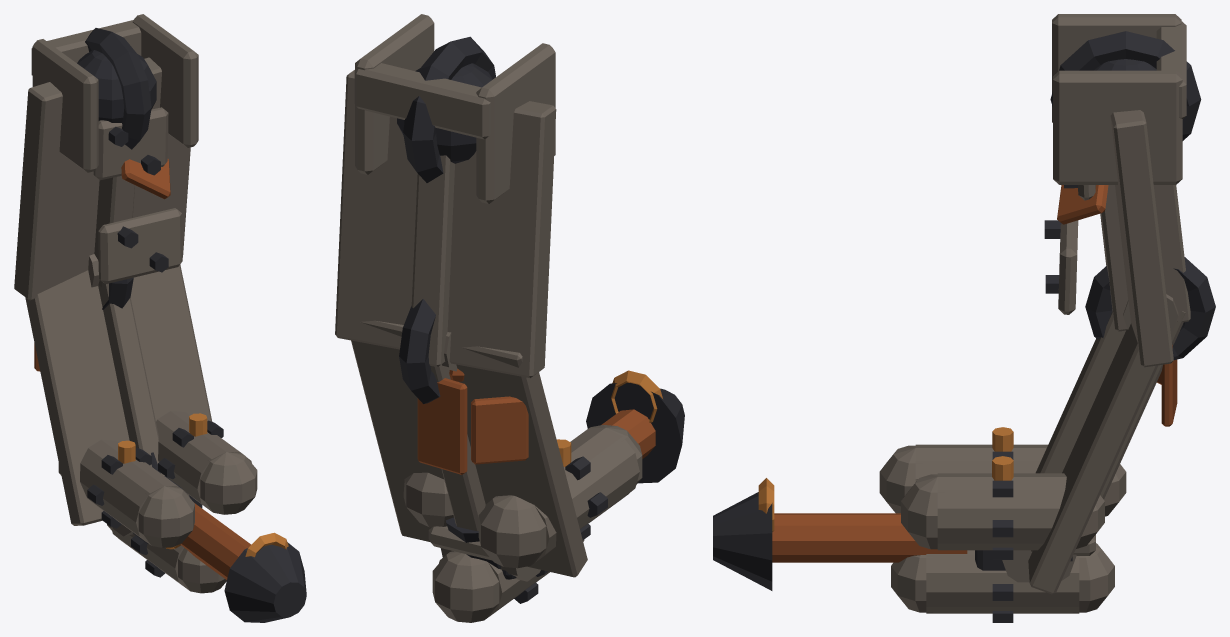
Rendered from ar_pulse.glb.
3 renders of one model, left to right at view 1: azimuth 30°, elevation 25°; view 2: azimuth 150°, elevation 25°; view 3: azimuth 270°, elevation 25°, orthographic. The views are drawn at different scales.
Visible parts, largest first — view 1: ar_pulse; view 2: ar_pulse; view 3: ar_pulse.
Part boxes in pixels (left/top/right/bottom): ar_pulse: left=14, top=14, right=306, bottom=622; ar_pulse: left=335, top=14, right=684, bottom=622; ar_pulse: left=713, top=14, right=1215, bottom=622.
Bounding box in the file's own units: 0.1193 × 0.3475 × 0.2727.
